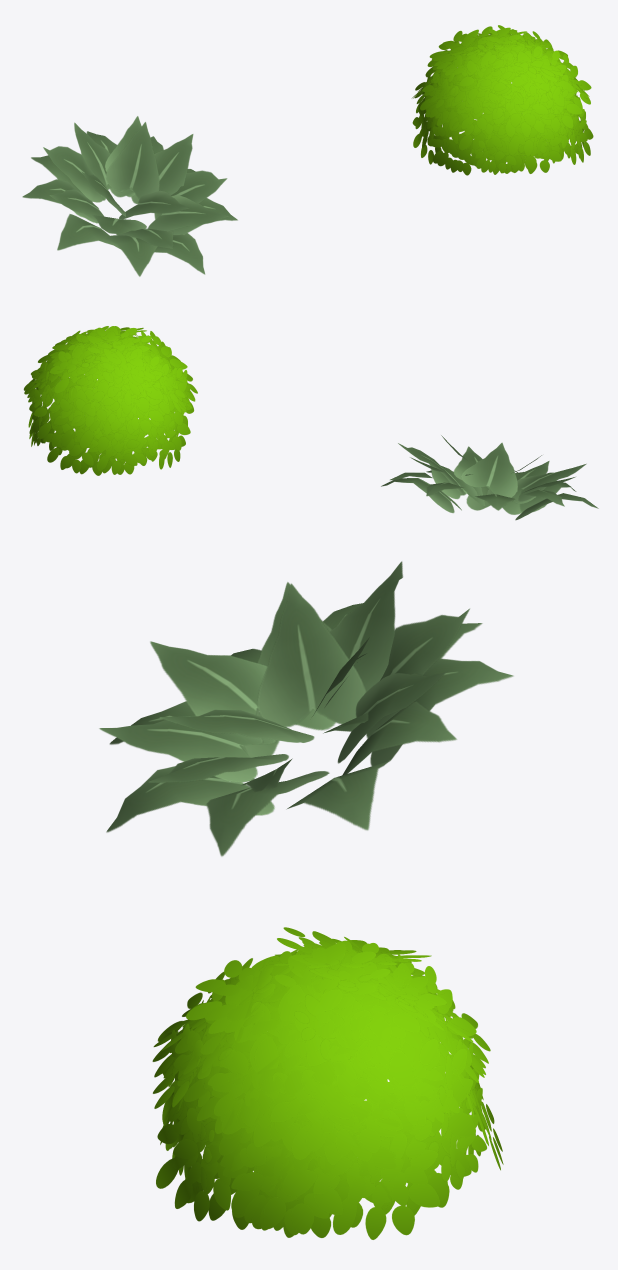
File: arbustos.glb
The picture shows the model from 3 angles, top to bottom: view 1: azimuth 30°, elevation 25°; view 2: azimuth 150°, elevation 25°; view 3: azimuth 270°, elevation 25°; orthographic projection. The views are drawn at different scales.
Visible parts, largest first — view 1: Bush, Plant_1; view 2: Bush, Plant_1; view 3: Bush, Plant_1.
Boxes of the visible parts, x1,y1,x2,y2 form: Bush: (412, 25, 593, 175); Plant_1: (22, 116, 237, 276); Bush: (23, 326, 197, 475); Plant_1: (381, 435, 598, 520); Bush: (152, 927, 503, 1239); Plant_1: (99, 561, 513, 856).
Size of the model in its own units: 3.55 by 0.7306 by 1.2.
2 materials, 2 textured.
